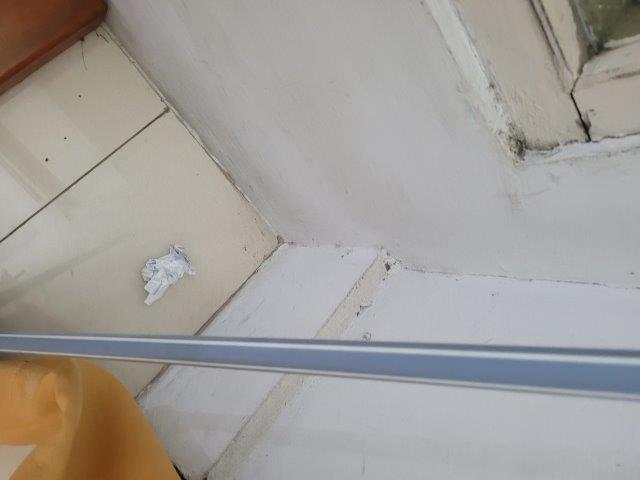kertas: (139, 245, 194, 306)
